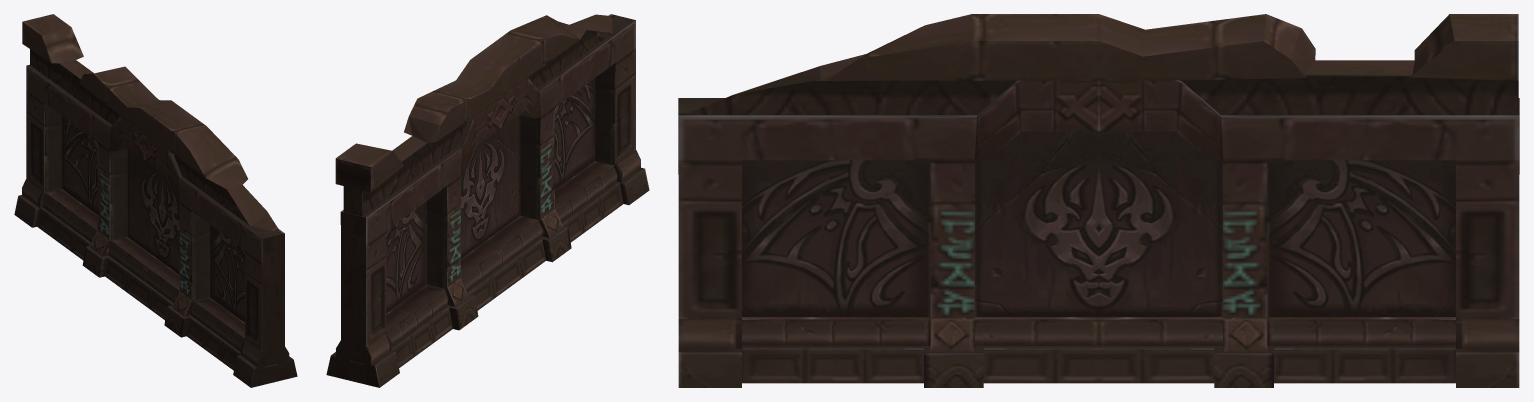
File: Dxlm_qiang01.FBX
The picture shows the model from 3 angles, left to right: view 1: azimuth 30°, elevation 25°; view 2: azimuth 150°, elevation 25°; view 3: azimuth 270°, elevation 25°; orthographic projection. The views are drawn at different scales.
Visible parts, largest first — view 1: Dxlm_qiang01; view 2: Dxlm_qiang01; view 3: Dxlm_qiang01.
Boxes of the visible parts, bbox=[...] form: Dxlm_qiang01: bbox=[14, 14, 297, 387]; Dxlm_qiang01: bbox=[326, 14, 649, 387]; Dxlm_qiang01: bbox=[678, 14, 1519, 387].
Size of the model in its own units: 70.7 by 611 by 273.
